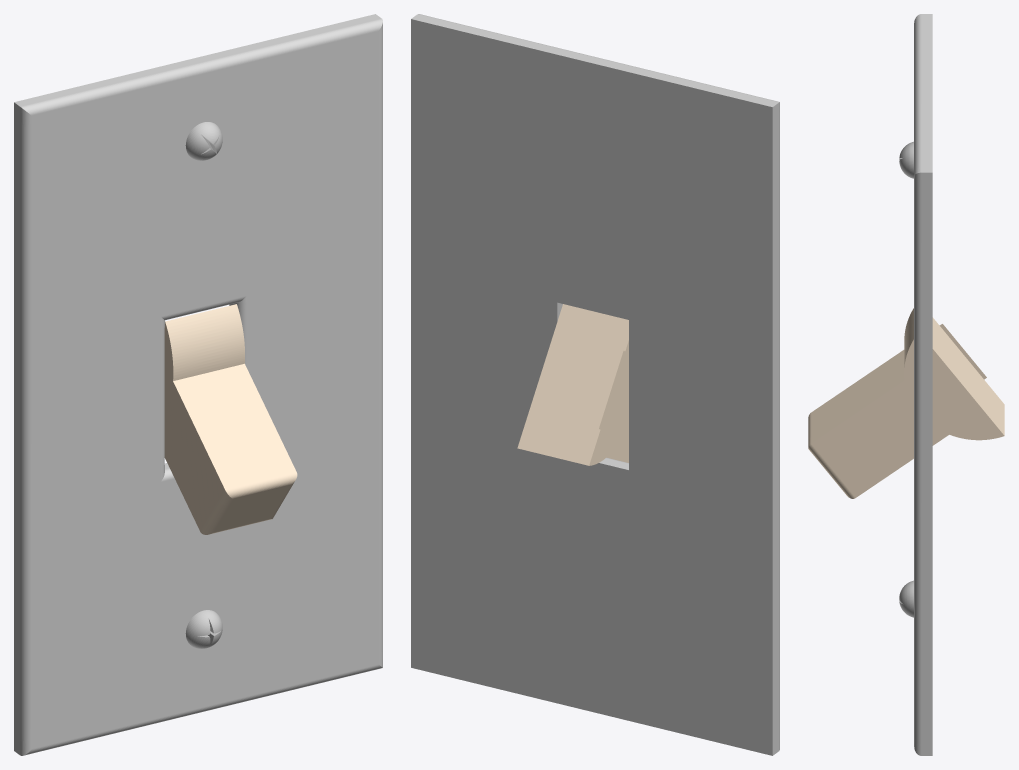
File: lightswitch.glb
3 views of the same model, side by side, from view 1: azimuth 30°, elevation 25°; view 2: azimuth 150°, elevation 25°; view 3: azimuth 270°, elevation 25° (orthographic). The views are drawn at different scales.
Parts seen in each view (by area): view 1: WallPlate, Switch, TopScrew, BtmScrew; view 2: WallPlate, Switch; view 3: Switch, WallPlate, BtmScrew, TopScrew.
Boxes of the visible parts, left/top/right/bottom form: WallPlate: left=14, top=14, right=382, bottom=755; Switch: left=164, top=304, right=297, bottom=534; TopScrew: left=185, top=122, right=222, bottom=160; BtmScrew: left=185, top=610, right=222, bottom=648; WallPlate: left=411, top=14, right=779, bottom=755; Switch: left=517, top=304, right=628, bottom=465; Switch: left=808, top=308, right=1004, bottom=498; WallPlate: left=914, top=14, right=932, bottom=755; BtmScrew: left=899, top=580, right=913, bottom=617; TopScrew: left=899, top=141, right=913, bottom=178.
Size of the model in its own units: 0.504 by 0.8638 by 0.2637.
